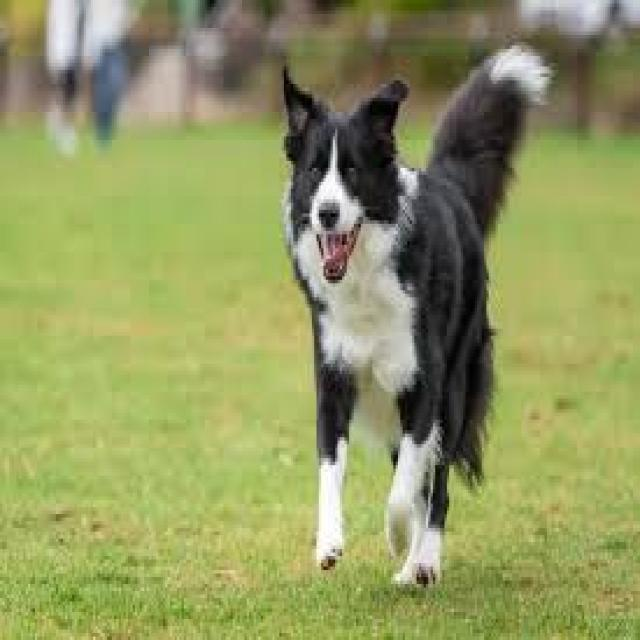ALASKAN_MALAMUTE: (244, 33, 568, 614)
